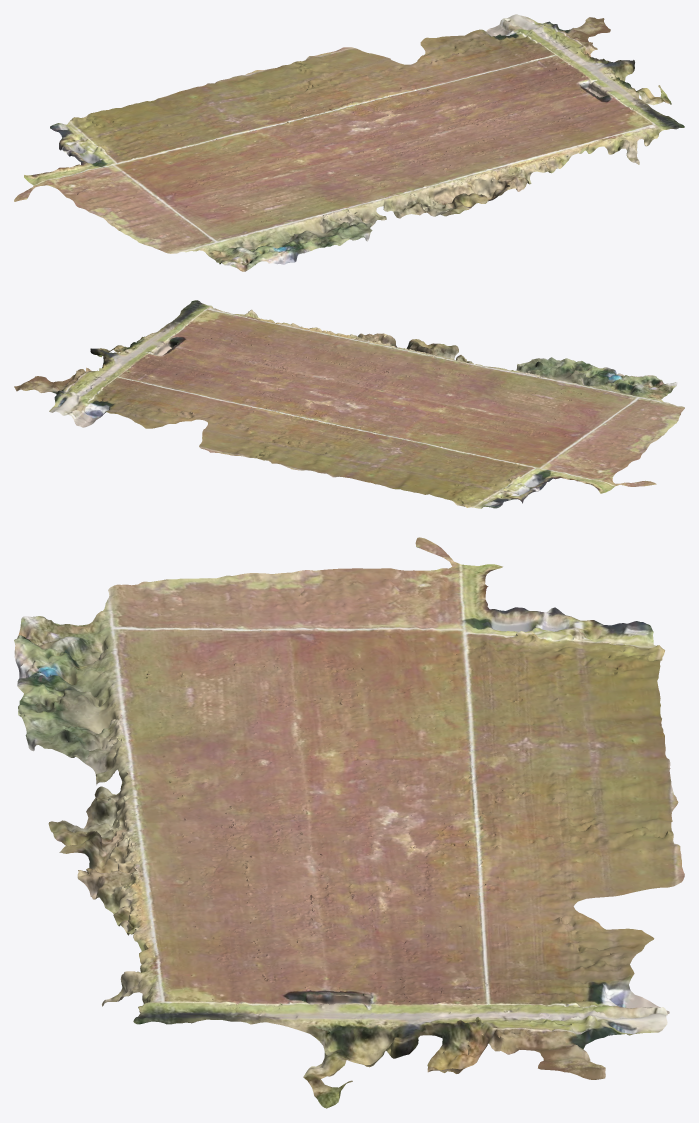
File: cranberry-0.glb
3 views of the same model, one above another, from view 1: azimuth 30°, elevation 25°; view 2: azimuth 150°, elevation 25°; view 3: azimuth 270°, elevation 25° (orthographic). The views are drawn at different scales.
Visible parts, largest first — view 1: mesh_out_node_texture_material_0; view 2: mesh_out_node_texture_material_0; view 3: mesh_out_node_texture_material_0.
Boxes of the visible parts, x1,y1,x2,y2 form: mesh_out_node_texture_material_0: [14, 14, 684, 271]; mesh_out_node_texture_material_0: [14, 300, 684, 508]; mesh_out_node_texture_material_0: [14, 537, 684, 1108].
Bounding box in the file's own units: 269 × 15.62 × 146.
1 material, 1 textured.
